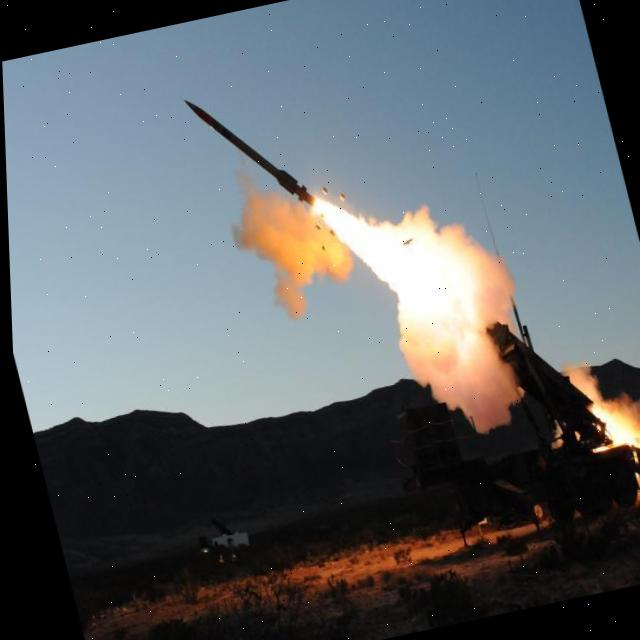missile: (176, 67, 323, 226)
